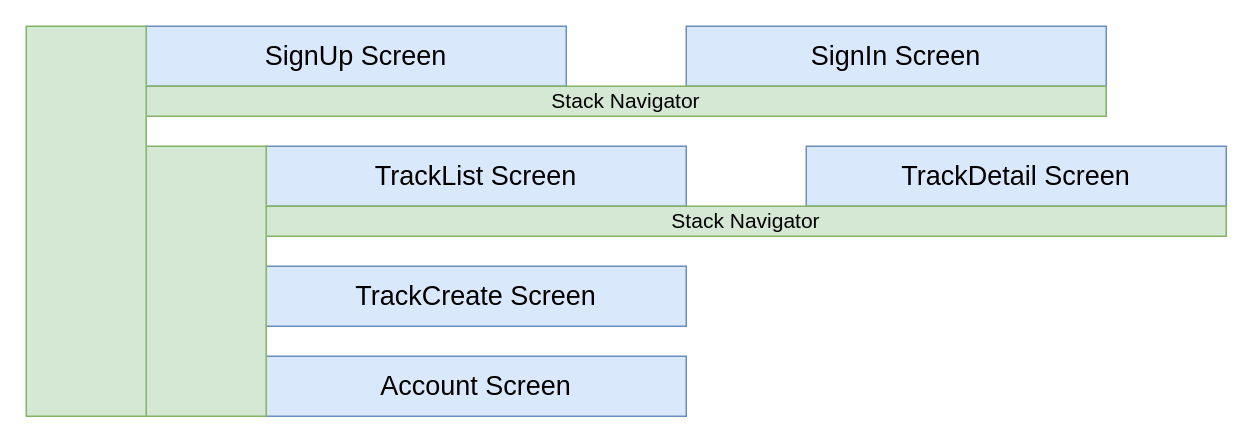
This 1253x443 diagram has some shape labels left out. Here are the shapes that lost their labels. From the top down, the centre of each, then its label:
the point at 85,220: Switch Navigator
the point at 205,280: Bottom Tab Navigator
